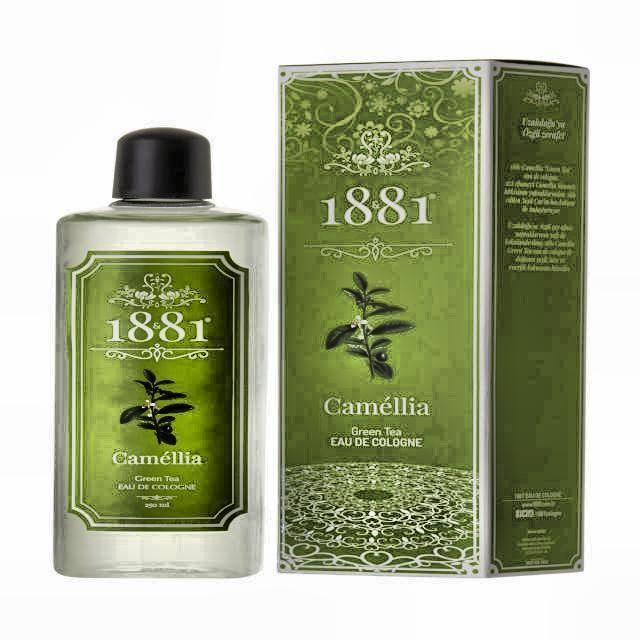cardboard: (279, 61, 589, 580)
glass: (53, 127, 269, 581)
